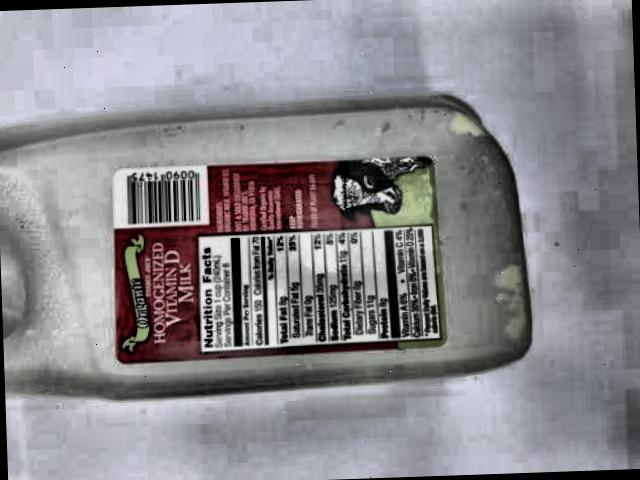Plastic: (0, 73, 559, 416)
